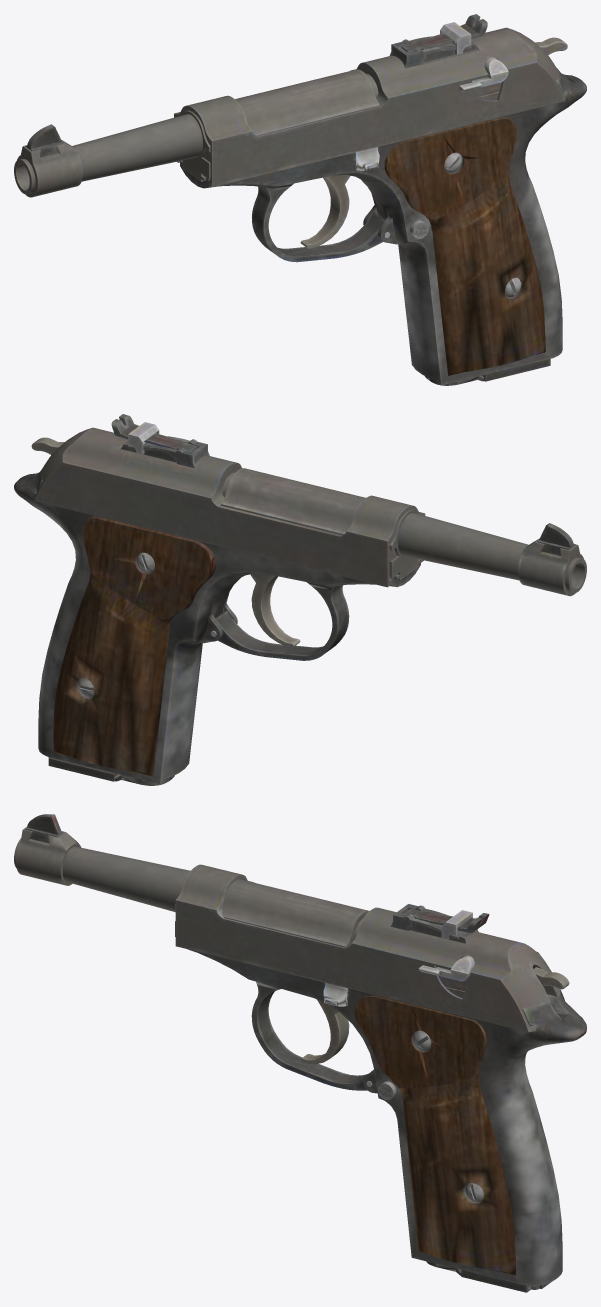
The model's file is gun_vermouth.glb.
3 renders of one model, top to bottom at view 1: azimuth 30°, elevation 25°; view 2: azimuth 150°, elevation 25°; view 3: azimuth 330°, elevation 25°, orthographic.
Visible parts, largest first — view 1: 슬라이드, 손잡이, 몸통, 총열, 탄창; view 2: 슬라이드, 손잡이, 몸통, 총열, 탄창; view 3: 슬라이드, 몸통, 손잡이, 총열, 탄창.
Part boxes in pixels (x1,y1,x2,y2): 슬라이드: [174, 14, 565, 187]; 손잡이: [384, 117, 545, 375]; 몸통: [180, 37, 586, 385]; 총열: [14, 69, 498, 197]; 탄창: [425, 359, 550, 385]; 슬라이드: [33, 414, 425, 587]; 손잡이: [53, 516, 216, 776]; 몸통: [14, 437, 420, 783]; 총열: [221, 468, 586, 596]; 탄창: [48, 757, 174, 785]; 슬라이드: [175, 864, 565, 1032]; 몸통: [188, 949, 586, 1285]; 손잡이: [354, 995, 515, 1275]; 총열: [14, 814, 464, 991]; 탄창: [426, 1261, 550, 1292].
Bounding box in the file's own units: 0.2219 × 0.1332 × 0.0318.
1 material, 1 textured.
